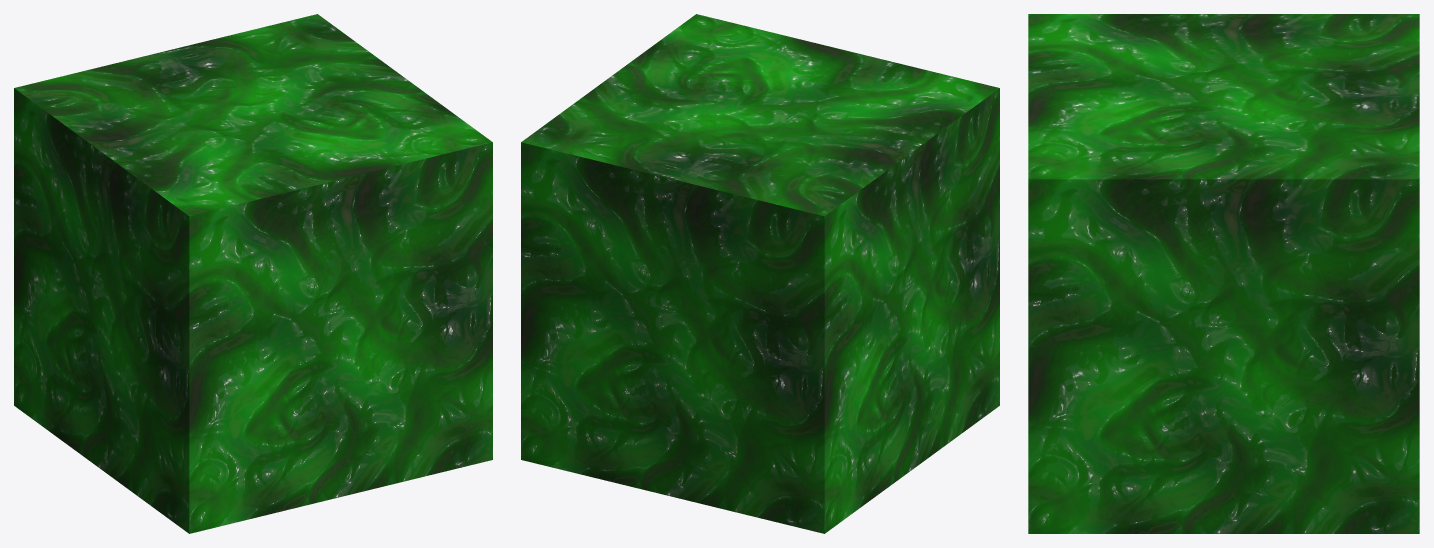
Rendered from tessellated_cube.obj.
The picture shows the model from 3 angles, left to right: view 1: azimuth 30°, elevation 25°; view 2: azimuth 150°, elevation 25°; view 3: azimuth 270°, elevation 25°; orthographic projection. The views are drawn at different scales.
Visible parts, largest first — view 1: Cube; view 2: Cube; view 3: Cube.
Boxes of the visible parts, x1,y1,x2,y2 form: Cube: (14, 14, 492, 533); Cube: (521, 14, 999, 533); Cube: (1028, 14, 1419, 533).
Bounding box in the file's own units: 1 × 1 × 1.
Materials: 1 (1 with a texture image).
